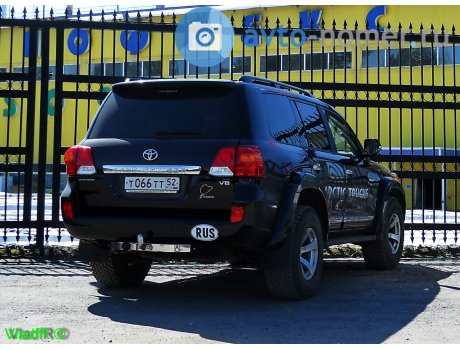car license plate: (123, 172, 182, 197)
